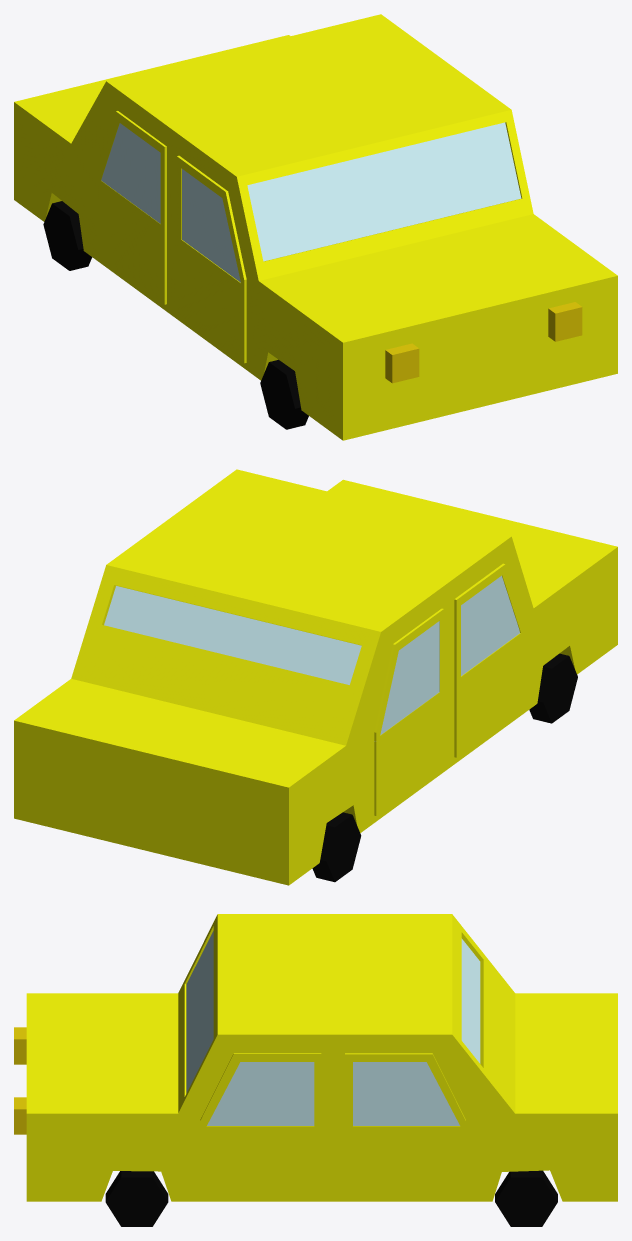
The model's file is Coche  Amarillo.fbx.
3 renders of one model, top to bottom at view 1: azimuth 30°, elevation 25°; view 2: azimuth 150°, elevation 25°; view 3: azimuth 270°, elevation 25°, orthographic. The views are drawn at different scales.
Parts seen in each view (by area): view 1: Cube, Cube.010, Cube.004, Cube.005, Cube.009, Cube.008, Cube.002, Cylinder.002, Cylinder.003; view 2: Cube, Cube.011, Cube.005, Cube.004, Cube.009, Cube.008, Cylinder.003, Cylinder.002; view 3: Cube, Cube.001, Cube.003, Cube.006, Cube.007, Cube.010, Cylinder, Cylinder.001, Cube.011, Cube.002.
Part boxes in pixels (x1,y1,x2,y2): Cube: (14, 14, 617, 440); Cube.010: (247, 122, 521, 261); Cube.004: (176, 155, 246, 363); Cube.005: (97, 111, 166, 304); Cube.009: (101, 123, 160, 223); Cube.008: (182, 169, 240, 282); Cube.002: (385, 302, 582, 383); Cylinder.002: (260, 359, 308, 429); Cylinder.003: (43, 201, 92, 270); Cube: (14, 469, 617, 885); Cube.011: (104, 586, 361, 684); Cube.005: (374, 608, 443, 815); Cube.004: (454, 563, 523, 757); Cube.009: (374, 621, 439, 741); Cube.008: (461, 575, 519, 675); Cylinder.003: (312, 812, 361, 882); Cylinder.002: (529, 653, 577, 723); Cube: (26, 914, 617, 1201); Cube.001: (345, 1053, 465, 1196); Cube.003: (200, 1053, 321, 1195); Cube.006: (207, 1062, 314, 1125); Cube.007: (353, 1062, 459, 1125); Cube.010: (186, 931, 213, 1093); Cylinder: (105, 1171, 168, 1226); Cylinder.001: (495, 1170, 557, 1226); Cube.011: (461, 938, 480, 1063); Cube.002: (14, 1027, 26, 1134).
Size of the model in its own units: 173 by 125 by 358.
